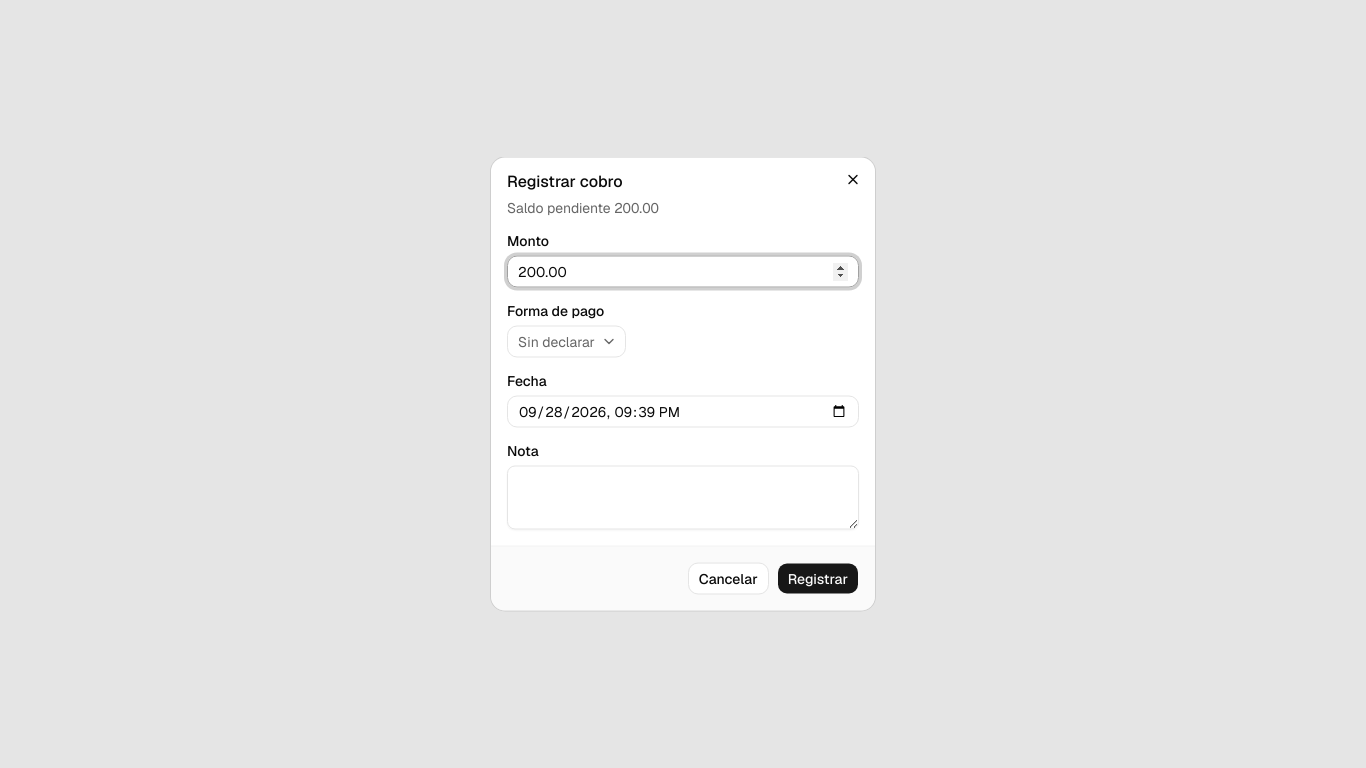
PaymentDialog › Scenario: Monto vacío o no positivo — el servidor lo impide y se muestra
Clear the number field labelled "Monto" at (683,272), box left=507, top=256, right=859, bottom=288
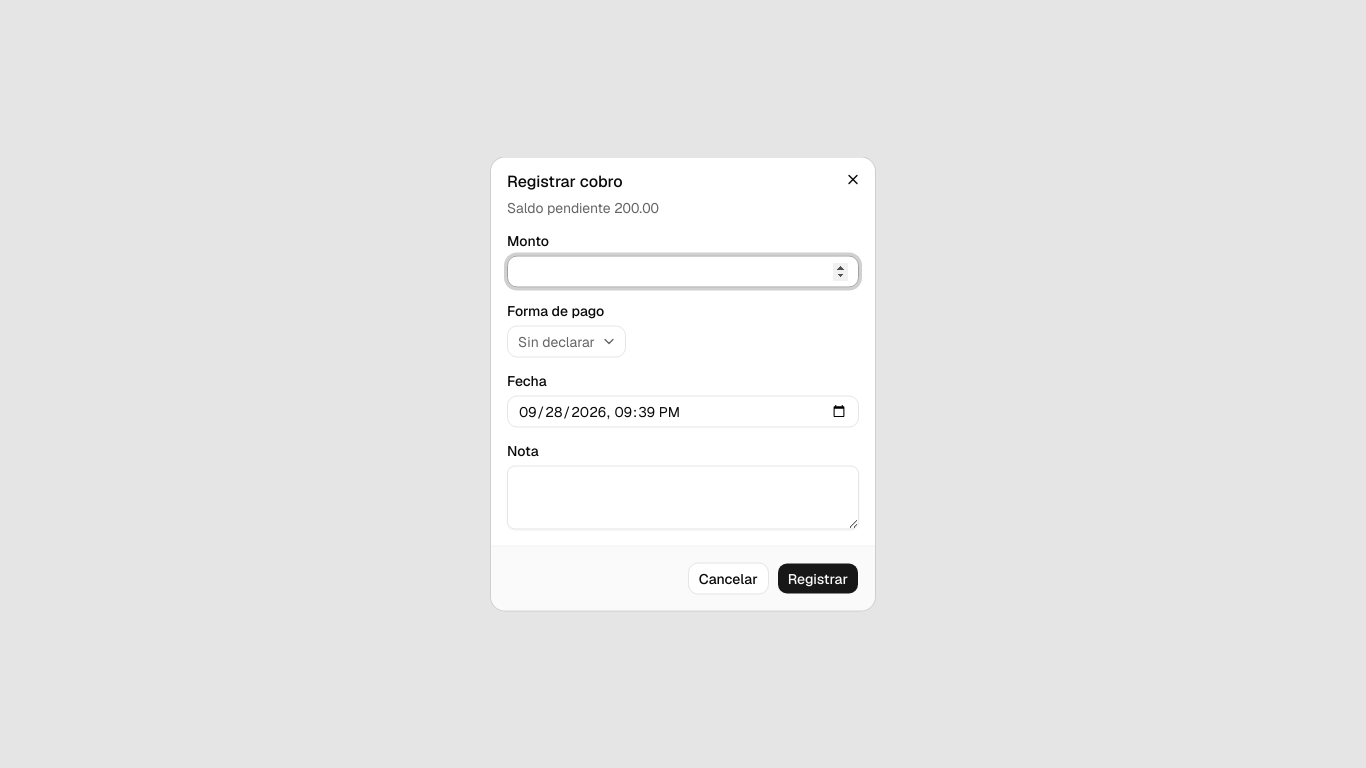
Click the button with test id "payment-submit" at (818,578), box left=777, top=562, right=859, bottom=594
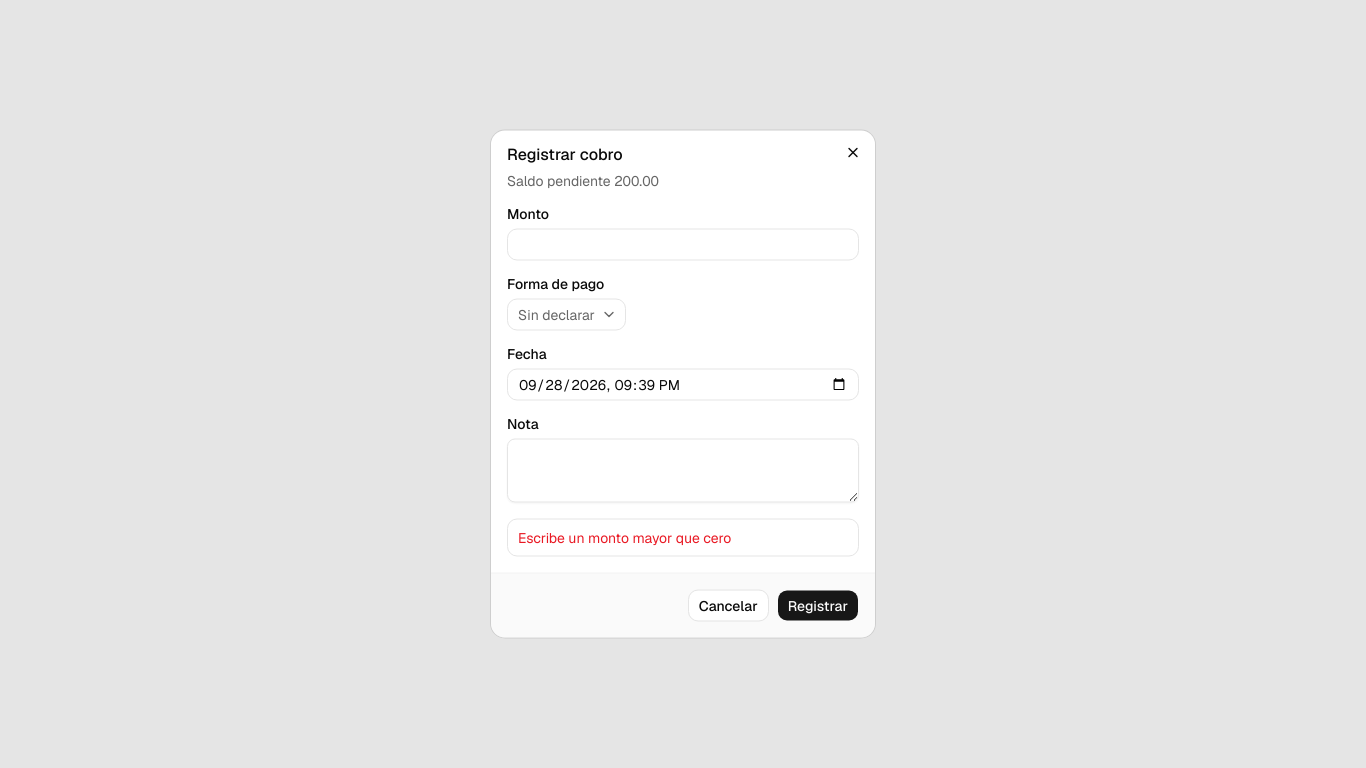
Expected: the message reads "Escribe un monto mayor que cero", left=518, top=528, right=731, bottom=546
